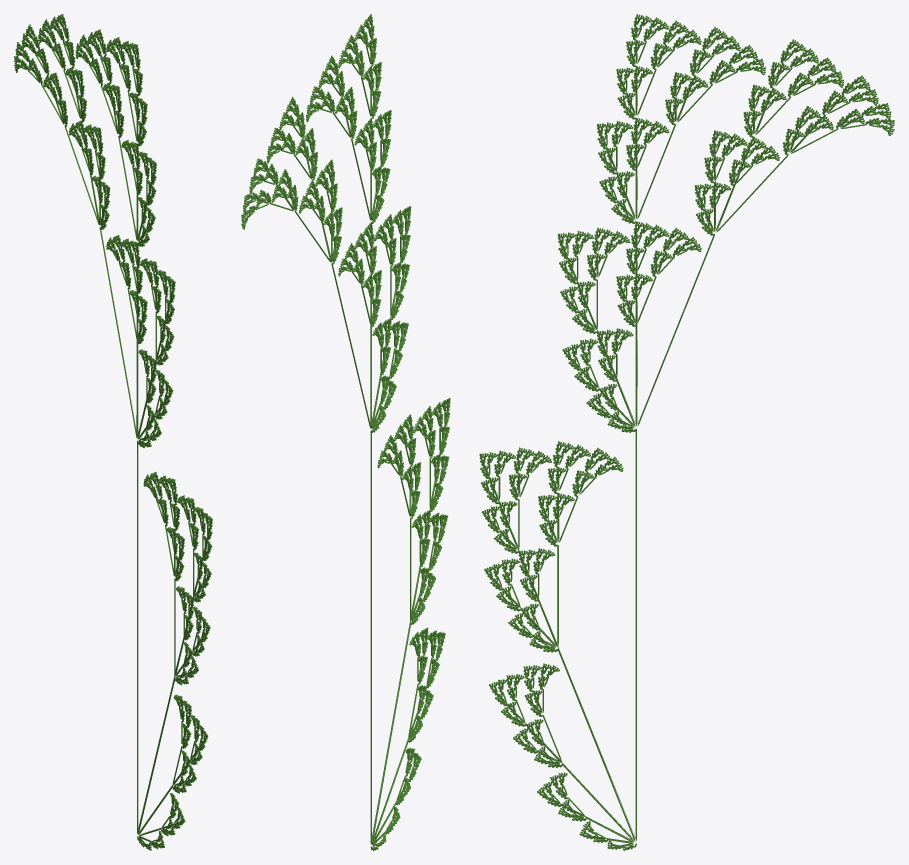
The model's file is Simple_fractal_tree.glb.
3 views of the same model, side by side, from view 1: azimuth 30°, elevation 25°; view 2: azimuth 150°, elevation 25°; view 3: azimuth 270°, elevation 25° (orthographic). The views are drawn at different scales.
Parts seen in each view (by area): view 1: Simple fractal tree; view 2: Simple fractal tree; view 3: Simple fractal tree.
Boxes of the visible parts, x1,y1,x2,y2 form: Simple fractal tree: (14,14,212,850); Simple fractal tree: (241,14,450,850); Simple fractal tree: (479,14,894,850).
Size of the model in its own units: 0.02 by 12.92 by 5.81.
